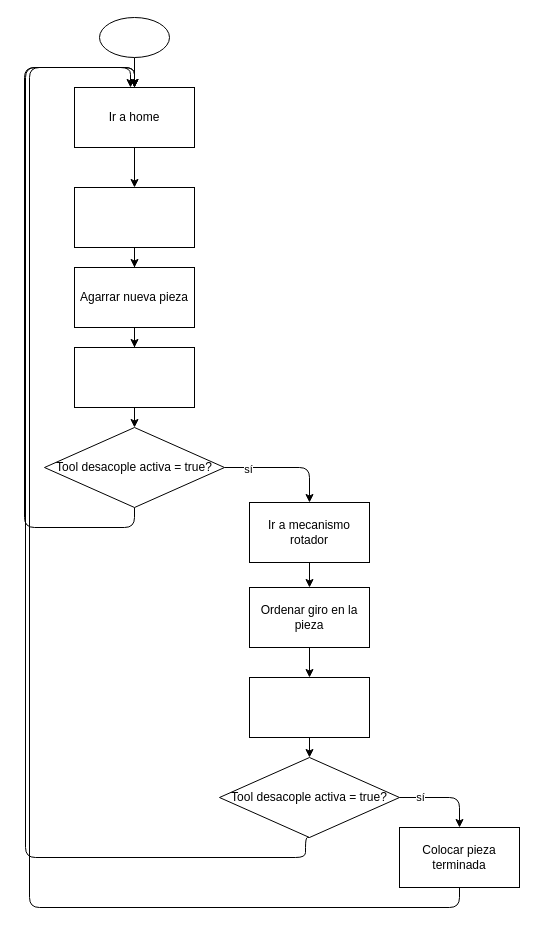
This 537x933 diagram has some shape labels left out. The shapes that lost their labels are listed below. From the top down, each one's box as (x1, y1, x2, y2) in pixels, then its label:
(98, 16, 170, 58): Inicio
(74, 186, 194, 248): Leer sensores de inicio y de llegada
(74, 346, 194, 408): Alimentar torno 1
(248, 676, 370, 738): Alimentar torno 2
